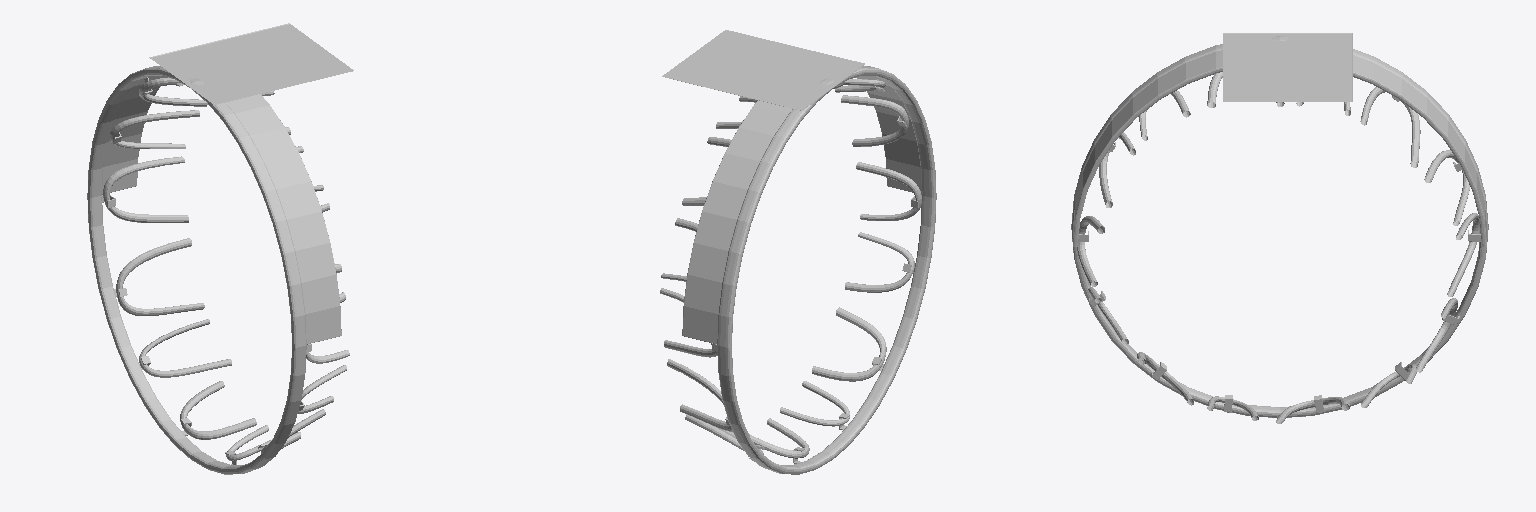
The model's file is hoop5.obj.
The picture shows the model from 3 angles: view 1: azimuth 30°, elevation 25°; view 2: azimuth 150°, elevation 25°; view 3: azimuth 270°, elevation 25°; orthographic projection.
Parts seen in each view (by area): view 1: board; view 2: board; view 3: board.
Part boxes in pixels (x1,y1,x2,y2): board: (87,23,353,474); board: (660,30,936,474); board: (1071,33,1488,423).
Bounding box in the file's own units: 6.88 × 17.63 × 17.63.